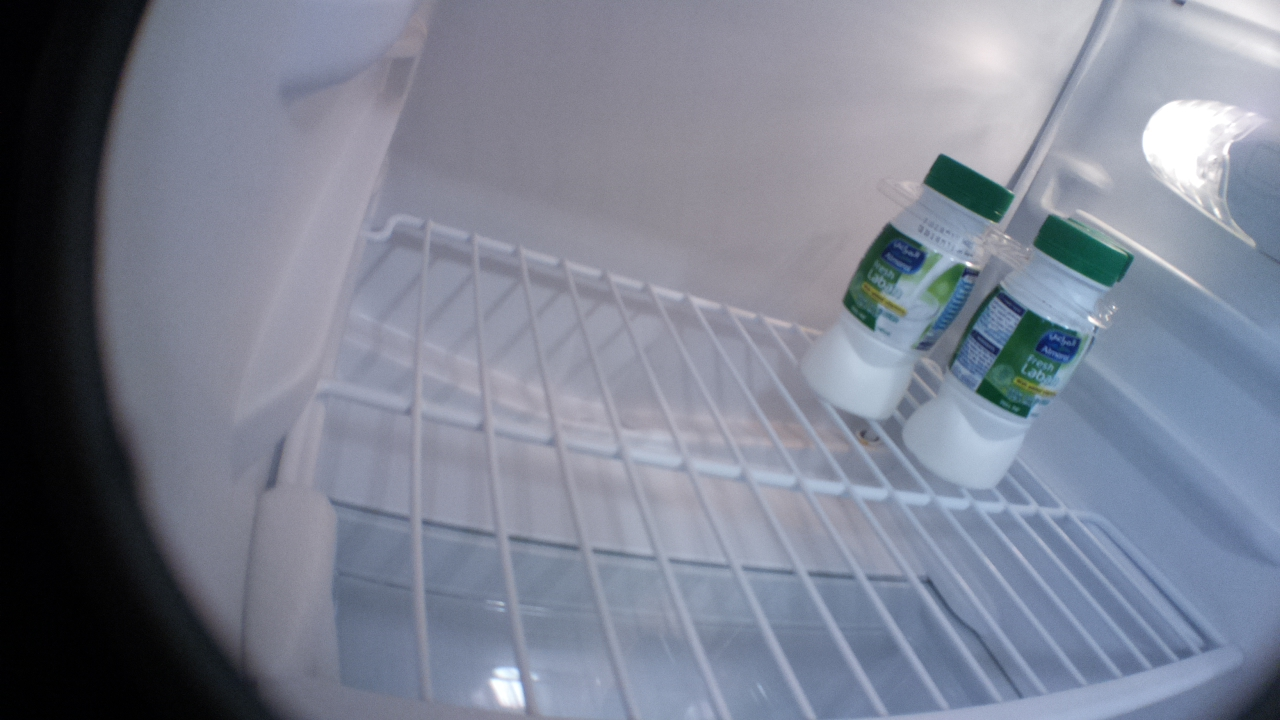laban: (898, 213, 1129, 488), (799, 153, 1016, 419)
